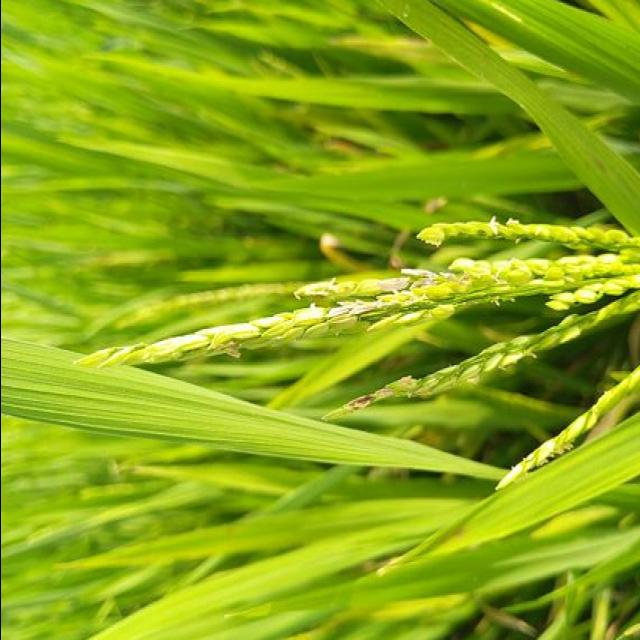Panicle Blight: (322, 386, 394, 421), (388, 267, 470, 294)
